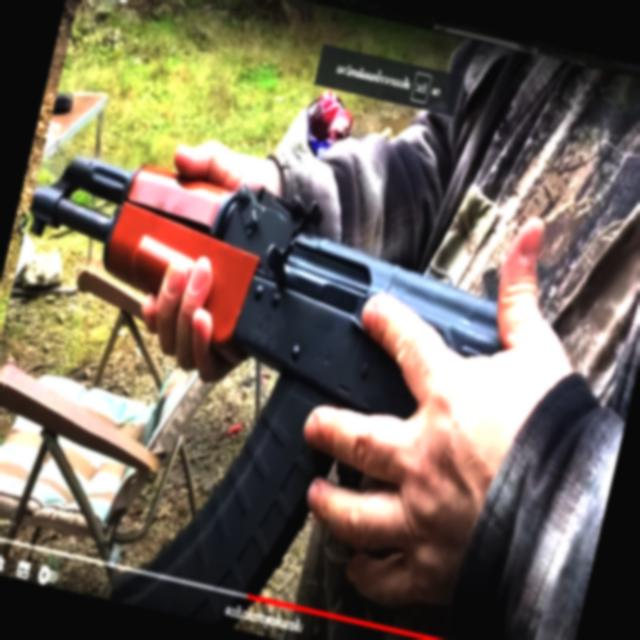ak: (0, 127, 550, 640)
